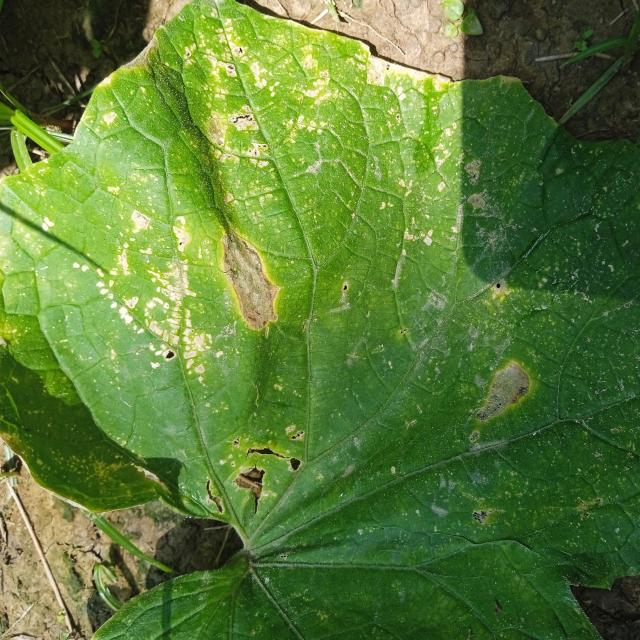cucumber_anthracnose: (104, 120, 572, 516)
